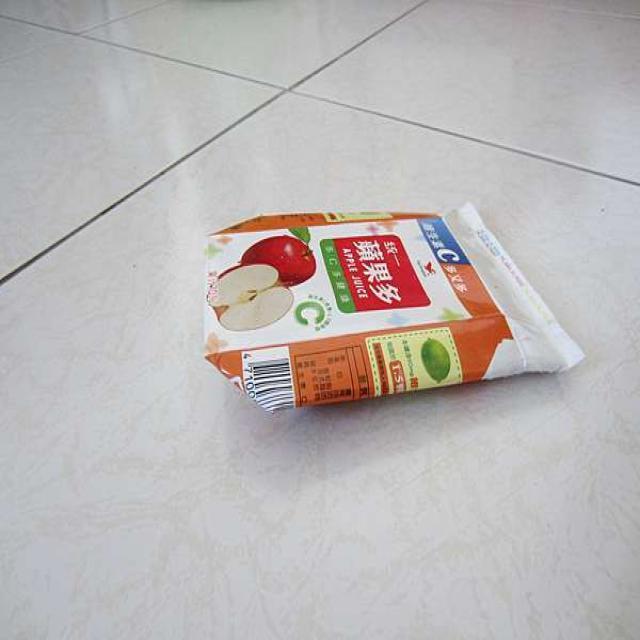cardboard: (196, 194, 580, 423)
